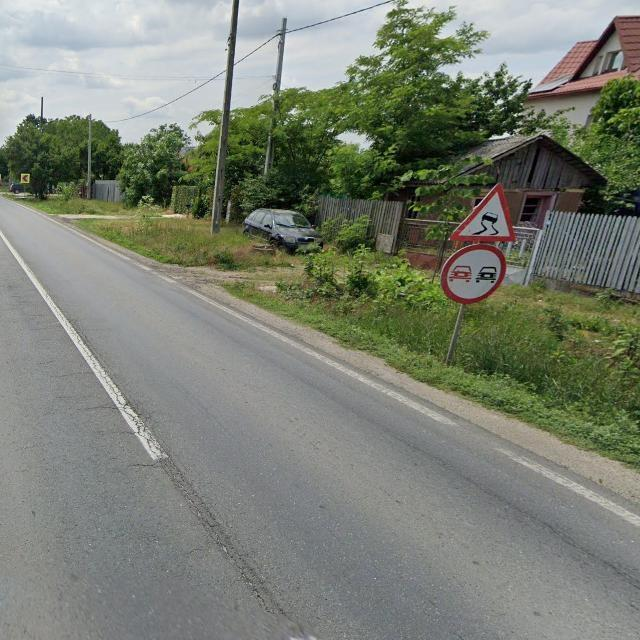forb_overtake: (440, 244, 507, 305)
